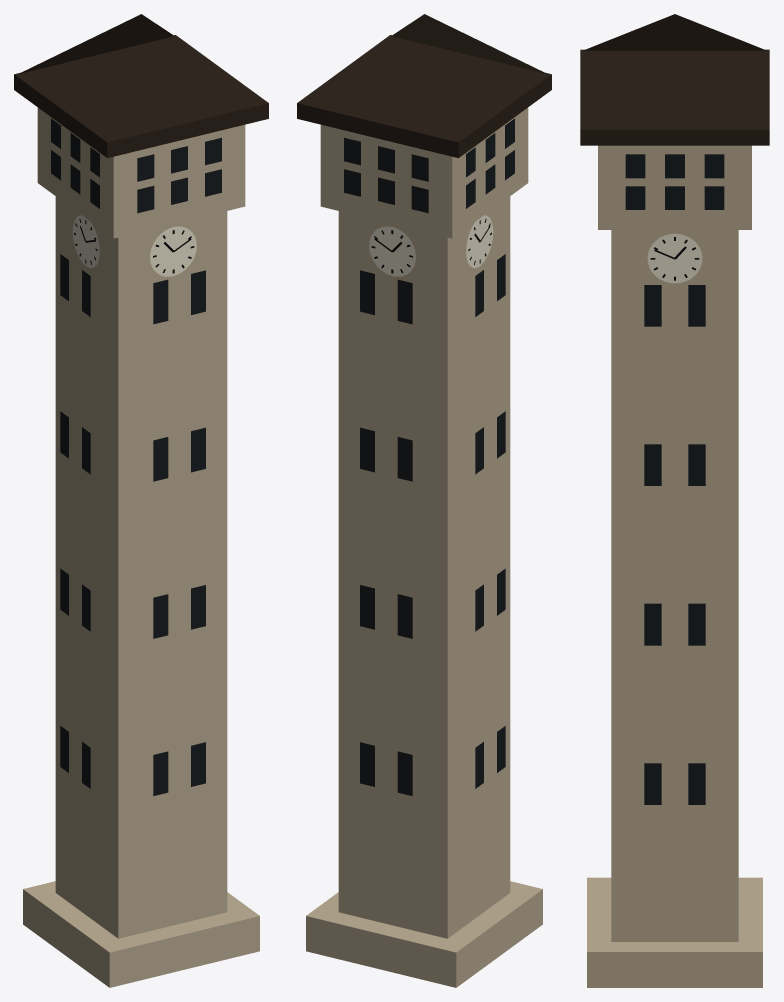
Rendered from clock_tower.obj.
The picture shows the model from 3 angles, left to right: view 1: azimuth 30°, elevation 25°; view 2: azimuth 150°, elevation 25°; view 3: azimuth 270°, elevation 25°; orthographic projection.
Visible parts, largest first — view 1: clock_tower_wall, clock_tower_roof, clock_tower_windows, clock_tower_clock_face_front, clock_tower_clock_face_left; view 2: clock_tower_wall, clock_tower_roof, clock_tower_windows, clock_tower_clock_face_back, clock_tower_clock_face_left; view 3: clock_tower_wall, clock_tower_roof, clock_tower_windows, clock_tower_clock_face_right.
Part boxes in pixels (box(x1,y1,x2,y2)): clock_tower_wall: box(23, 107, 259, 987); clock_tower_roof: box(14, 14, 268, 157); clock_tower_windows: box(51, 118, 221, 795); clock_tower_clock_face_front: box(150, 226, 196, 276); clock_tower_clock_face_left: box(72, 215, 99, 268); clock_tower_wall: box(306, 107, 542, 987); clock_tower_roof: box(297, 14, 551, 157); clock_tower_windows: box(344, 118, 514, 795); clock_tower_clock_face_back: box(369, 226, 415, 276); clock_tower_clock_face_left: box(466, 215, 493, 268); clock_tower_wall: box(587, 145, 762, 987); clock_tower_roof: box(580, 14, 769, 145); clock_tower_windows: box(625, 154, 724, 804); clock_tower_clock_face_right: box(647, 233, 702, 283).
Bounding box in the file's own units: 8.6 × 47 × 8.6.
